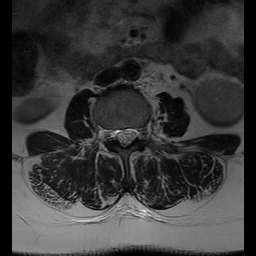CCS_normal: (122, 119, 129, 157)
LFS_normal: (138, 118, 147, 147)
LLS_normal: (129, 118, 138, 150)
RFS_normal: (105, 118, 114, 149)
RLS_normal: (114, 120, 122, 150)
